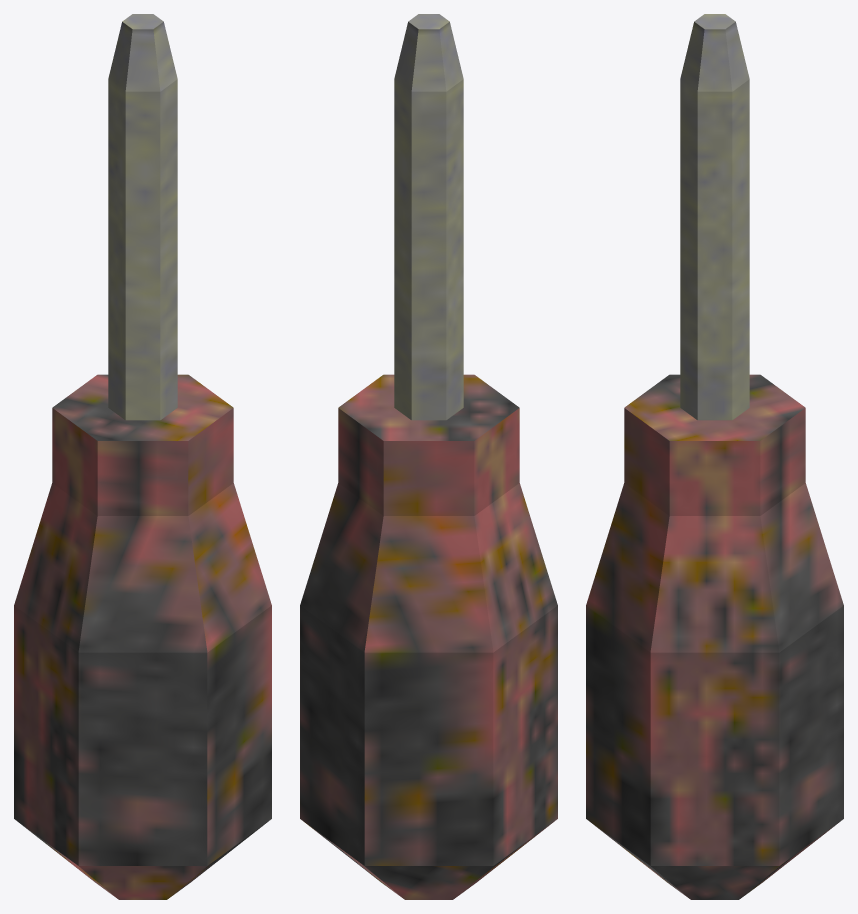
File: Screw.fbx
The picture shows the model from 3 angles, left to right: view 1: azimuth 30°, elevation 25°; view 2: azimuth 150°, elevation 25°; view 3: azimuth 270°, elevation 25°; orthographic projection.
Parts seen in each view (by area): view 1: Cylinder; view 2: Cylinder; view 3: Cylinder.
Boxes of the visible parts, bbox=[...] form: Cylinder: bbox=[14, 14, 271, 899]; Cylinder: bbox=[300, 14, 557, 899]; Cylinder: bbox=[586, 14, 843, 899].
Bounding box in the file's own units: 0.0492 × 0.2091 × 0.0568.
